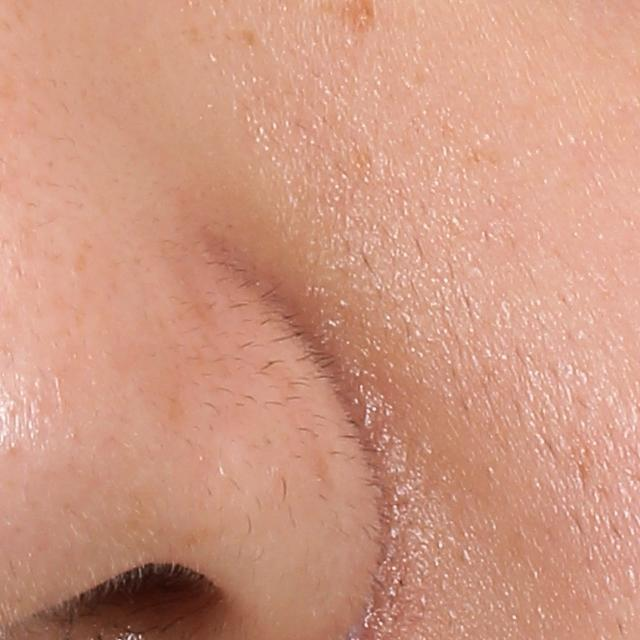melasma: (233, 28, 262, 52)
